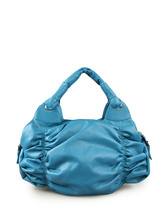bag: (13, 64, 155, 196)
